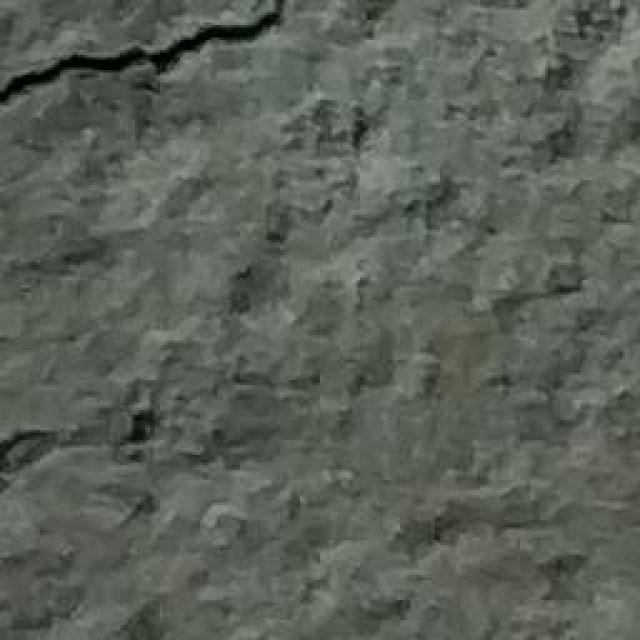Transverse: (0, 0, 293, 113)
